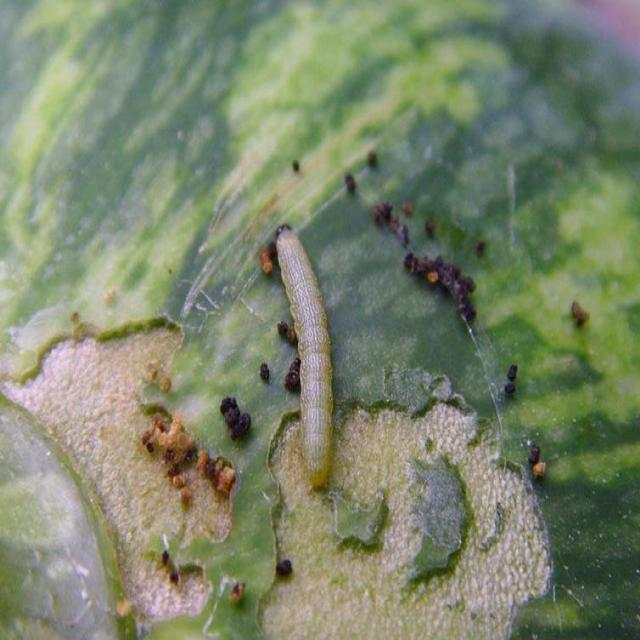BeetArmyWorm-Larva-: (272, 228, 344, 484)
